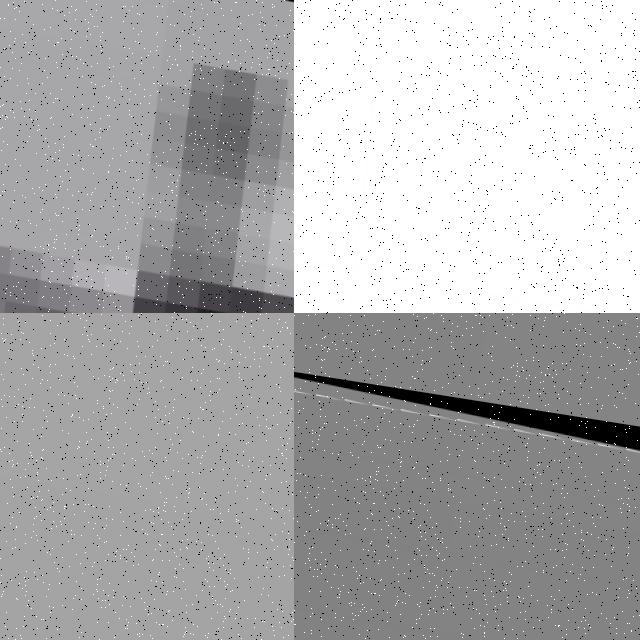drone: (294, 0, 640, 313), (294, 355, 640, 640), (0, 0, 294, 313)
